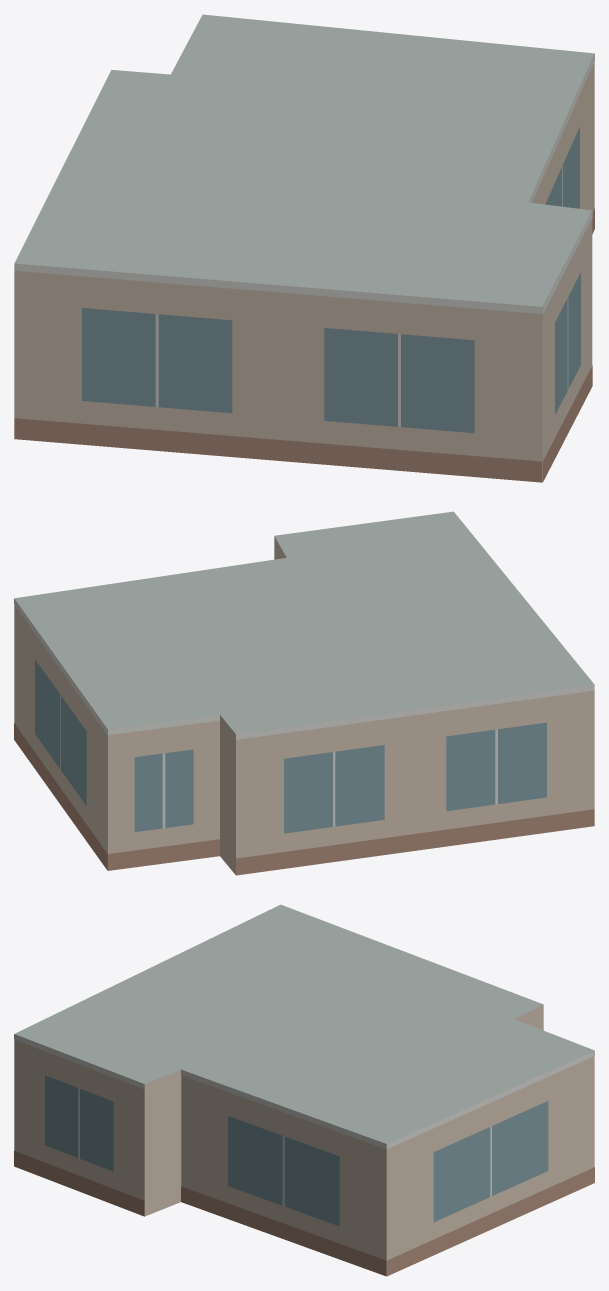
File: survey-upis-32754211.glb
3 renders of one model, top to bottom at view 1: azimuth 30°, elevation 25°; view 2: azimuth 150°, elevation 25°; view 3: azimuth 270°, elevation 25°, orthographic. The views are drawn at different scales.
Visible parts, largest first — view 1: survey-upis-32754211.tmp; view 2: survey-upis-32754211.tmp; view 3: survey-upis-32754211.tmp.
Part boxes in pixels (x1,y1,x2,y2): survey-upis-32754211.tmp: (14,14,594,482); survey-upis-32754211.tmp: (14,511,594,875); survey-upis-32754211.tmp: (14,904,594,1276).
Bounding box in the file's own units: 11.84 × 3.05 × 12.13.
